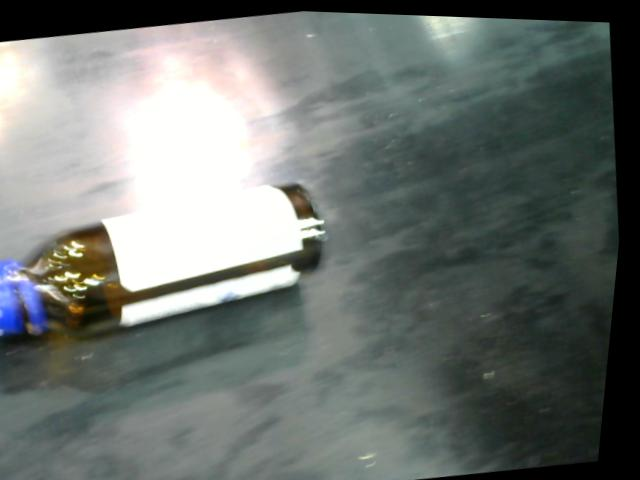glass: (0, 172, 339, 353)
